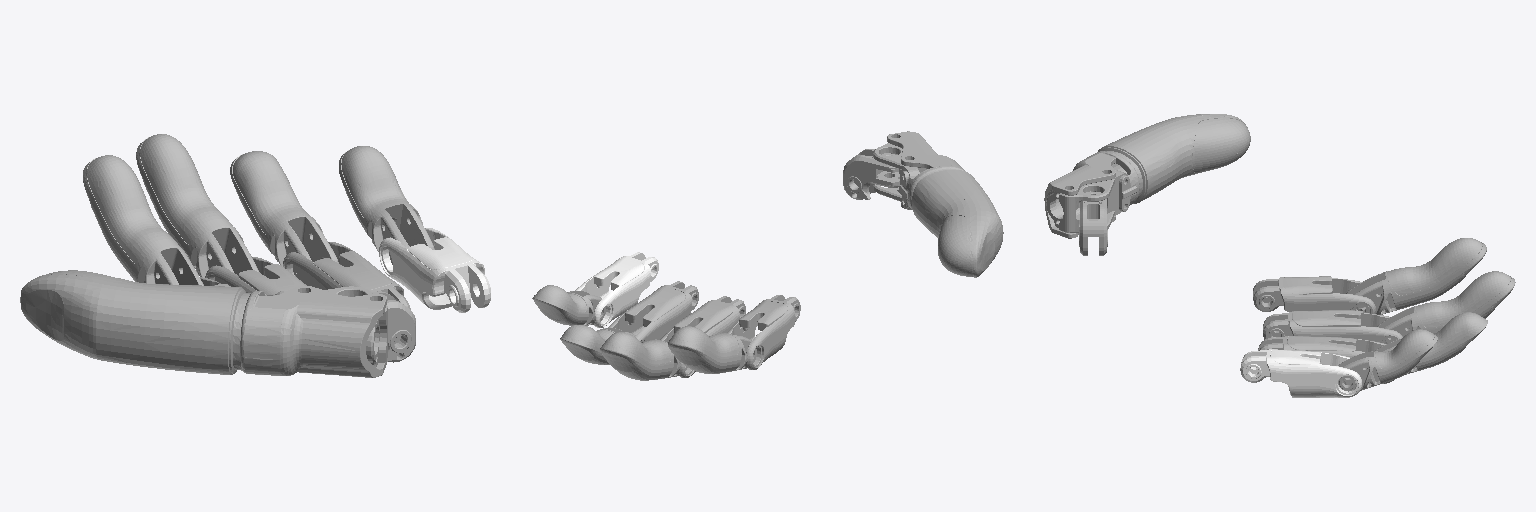
robot.urdf — DexforceW1_left_hand:
<?xml version='1.0' encoding='utf-8'?>
<robot name="DexforceW1_left_hand">
  <!-- Extracted from DexforceW1V021.urdf; root link: left_hand_base. -->
  <link name="left_hand_base">
    <inertial>
      <origin xyz="0.0017239 0.0051432 -0.031065" rpy="0 0 0" />
      <mass value="0.427" />
      <inertia ixx="0.0010405" ixy="-3.7268E-05" ixz="-3.9415E-05" iyy="0.0013244" iyz="-4.7638E-05" izz="0.00053219" />
    </inertial>
    <visual>
      <origin xyz="0 0 0" rpy="0 0 0" />
      <geometry>
        <mesh filename="Visual/left_hand/L_base_link.obj" />
      </geometry>
      <material name="">
        <color rgba="0.75294 0.75294 0.75294 1" />
      </material>
    </visual>
    <collision>
      <origin xyz="0 0 0" rpy="0 0 0" />
      <geometry>
        <mesh filename="Collision/left_hand/L_base_link.obj" />
      </geometry>
    </collision>
  </link>
  <link name="left_base_offset"> </link>
  <link name="left_thumb_prox">
    <inertial>
      <origin xyz="0.0017239 0.0051432 -0.031065" rpy="0 0 0" />
      <mass value="0.005" />
      <inertia ixx="0.0010405" ixy="-3.7268E-05" ixz="-3.9415E-05" iyy="0.0013244" iyz="-4.7638E-05" izz="0.00053219" />
    </inertial>
    <visual>
      <origin xyz="0 0 0" rpy="0 0 0" />
      <geometry>
        <mesh filename="Visual/left_hand/L_thumb_prox.obj" />
      </geometry>
      <material name="">
        <color rgba="0.75294 0.75294 0.75294 1" />
      </material>
    </visual>
    <collision>
      <origin xyz="0 0 0" rpy="0 0 0" />
      <geometry>
        <mesh filename="Collision/left_hand/L_thumb_prox.obj" />
      </geometry>
    </collision>
  </link>
  <link name="left_thumb_dist">
    <inertial>
      <origin xyz="0.0017239 0.0051432 -0.031065" rpy="0 0 0" />
      <mass value="0.04" />
      <inertia ixx="0.0010405" ixy="-3.7268E-05" ixz="-3.9415E-05" iyy="0.0013244" iyz="-4.7638E-05" izz="0.00053219" />
    </inertial>
    <visual>
      <origin xyz="0 0 0" rpy="0 0 0" />
      <geometry>
        <mesh filename="Visual/left_hand/L_thumb_dist.obj" />
      </geometry>
      <material name="">
        <color rgba="0.75294 0.75294 0.75294 1" />
      </material>
    </visual>
    <collision>
      <origin xyz="0 0 0" rpy="0 0 0" />
      <geometry>
        <mesh filename="Collision/left_hand/L_thumb_dist.obj" />
      </geometry>
    </collision>
  </link>
  <link name="left_index_prox">
    <inertial>
      <origin xyz="0.0017239 0.0051432 -0.031065" rpy="0 0 0" />
      <mass value="0.008" />
      <inertia ixx="0.0010405" ixy="-3.7268E-05" ixz="-3.9415E-05" iyy="0.0013244" iyz="-4.7638E-05" izz="0.00053219" />
    </inertial>
    <visual>
      <origin xyz="0 0 0" rpy="0 0 0" />
      <geometry>
        <mesh filename="Visual/left_hand/L_index_prox.obj" />
      </geometry>
      <material name="">
        <color rgba="0.75294 0.75294 0.75294 1" />
      </material>
    </visual>
    <collision>
      <origin xyz="0 0 0" rpy="0 0 0" />
      <geometry>
        <mesh filename="Collision/left_hand/L_index_prox.obj" />
      </geometry>
    </collision>
  </link>
  <link name="left_index_dist">
    <inertial>
      <origin xyz="0.0017239 0.0051432 -0.031065" rpy="0 0 0" />
      <mass value="0.011" />
      <inertia ixx="0.0010405" ixy="-3.7268E-05" ixz="-3.9415E-05" iyy="0.0013244" iyz="-4.7638E-05" izz="0.00053219" />
    </inertial>
    <visual>
      <origin xyz="0 0 0" rpy="0 0 0" />
      <geometry>
        <mesh filename="Visual/left_hand/L_index_dist.obj" />
      </geometry>
      <material name="">
        <color rgba="0.75294 0.75294 0.75294 1" />
      </material>
    </visual>
    <collision>
      <origin xyz="0 0 0" rpy="0 0 0" />
      <geometry>
        <mesh filename="Collision/left_hand/L_index_dist.obj" />
      </geometry>
    </collision>
  </link>
  <link name="left_middle_prox">
    <inertial>
      <origin xyz="0.0017239 0.0051432 -0.031065" rpy="0 0 0" />
      <mass value="0.011" />
      <inertia ixx="0.0010405" ixy="-3.7268E-05" ixz="-3.9415E-05" iyy="0.0013244" iyz="-4.7638E-05" izz="0.00053219" />
    </inertial>
    <visual>
      <origin xyz="0 0 0" rpy="0 0 0" />
      <geometry>
        <mesh filename="Visual/left_hand/L_middle_prox.obj" />
      </geometry>
      <material name="">
        <color rgba="0.75294 0.75294 0.75294 1" />
      </material>
    </visual>
    <collision>
      <origin xyz="0 0 0" rpy="0 0 0" />
      <geometry>
        <mesh filename="Collision/left_hand/L_middle_prox.obj" />
      </geometry>
    </collision>
  </link>
  <link name="left_middle_dist">
    <inertial>
      <origin xyz="0.0017239 0.0051432 -0.031065" rpy="0 0 0" />
      <mass value="0.011" />
      <inertia ixx="0.0010405" ixy="-3.7268E-05" ixz="-3.9415E-05" iyy="0.0013244" iyz="-4.7638E-05" izz="0.00053219" />
    </inertial>
    <visual>
      <origin xyz="0 0 0" rpy="0 0 0" />
      <geometry>
        <mesh filename="Visual/left_hand/L_middle_dist.obj" />
      </geometry>
      <material name="">
        <color rgba="0.75294 0.75294 0.75294 1" />
      </material>
    </visual>
    <collision>
      <origin xyz="0 0 0" rpy="0 0 0" />
      <geometry>
        <mesh filename="Collision/left_hand/L_middle_dist.obj" />
      </geometry>
    </collision>
  </link>
  <link name="left_ring_prox">
    <inertial>
      <origin xyz="0.0017239 0.0051432 -0.031065" rpy="0 0 0" />
      <mass value="0.011" />
      <inertia ixx="0.0010405" ixy="-3.7268E-05" ixz="-3.9415E-05" iyy="0.0013244" iyz="-4.7638E-05" izz="0.00053219" />
    </inertial>
    <visual>
      <origin xyz="0 0 0" rpy="0 0 0" />
      <geometry>
        <mesh filename="Visual/left_hand/L_ring_prox.obj" />
      </geometry>
      <material name="">
        <color rgba="0.75294 0.75294 0.75294 1" />
      </material>
    </visual>
    <collision>
      <origin xyz="0 0 0" rpy="0 0 0" />
      <geometry>
        <mesh filename="Collision/left_hand/L_ring_prox.obj" />
      </geometry>
    </collision>
  </link>
  <link name="left_ring_dist">
    <inertial>
      <origin xyz="0.0017239 0.0051432 -0.031065" rpy="0 0 0" />
      <mass value="0.008" />
      <inertia ixx="0.0010405" ixy="-3.7268E-05" ixz="-3.9415E-05" iyy="0.0013244" iyz="-4.7638E-05" izz="0.00053219" />
    </inertial>
    <visual>
      <origin xyz="0 0 0" rpy="0 0 0" />
      <geometry>
        <mesh filename="Visual/left_hand/L_ring_dist.obj" />
      </geometry>
      <material name="">
        <color rgba="0.75294 0.75294 0.75294 1" />
      </material>
    </visual>
    <collision>
      <origin xyz="0 0 0" rpy="0 0 0" />
      <geometry>
        <mesh filename="Collision/left_hand/L_ring_dist.obj" />
      </geometry>
    </collision>
  </link>
  <link name="left_pinky_prox">
    <inertial>
      <origin xyz="0 0 0" rpy="0 0 0" />
      <mass value="0.008" />
      <inertia ixx="3.3526E-07" ixy="2.8461E-11" ixz="-2.3358E-12" iyy="1.0129E-07" iyz="2.1346E-08" izz="3.7096E-07" />
    </inertial>
    <visual>
      <origin xyz="0 0 0" rpy="0 0 0" />
      <geometry>
        <mesh filename="Visual/left_hand/L_little_prox.obj" />
      </geometry>
      <material name="">
        <color rgba="1 1 1 1" />
      </material>
    </visual>
    <collision>
      <origin xyz="0 0 0" rpy="0 0 0" />
      <geometry>
        <mesh filename="Collision/left_hand/L_little_prox.obj" />
      </geometry>
    </collision>
  </link>
  <link name="left_pinky_dist">
    <inertial>
      <origin xyz="0.0017239 0.0051432 -0.031065" rpy="0 0 0" />
      <mass value="0.008" />
      <inertia ixx="0.0010405" ixy="-3.7268E-05" ixz="-3.9415E-05" iyy="0.0013244" iyz="-4.7638E-05" izz="0.00053219" />
    </inertial>
    <visual>
      <origin xyz="0 0 0" rpy="0 0 0" />
      <geometry>
        <mesh filename="Visual/left_hand/L_little_dist.obj" />
      </geometry>
      <material name="">
        <color rgba="0.75294 0.75294 0.75294 1" />
      </material>
    </visual>
    <collision>
      <origin xyz="0 0 0" rpy="0 0 0" />
      <geometry>
        <mesh filename="Collision/left_hand/L_little_dist.obj" />
      </geometry>
    </collision>
  </link>
  <joint name="LEFT_BASE_OFFSET" type="fixed">
    <origin xyz="0 0.0298242 0" rpy="-0.0698132 0 0" />
    <parent link="left_hand_base" />
    <child link="left_base_offset" />
  </joint>
  <joint name="LEFT_HAND_THUMB1" type="revolute">
    <origin xyz="0 0 0.013647" rpy="0.87266 -0.49642 0" />
    <parent link="left_thumb_prox" />
    <child link="left_thumb_dist" />
    <axis xyz="-1 0 0" />
    <limit lower="0" upper="0.8727" effort="0" velocity="0" />
    <dynamics damping="0" friction="0" />
  </joint>
  <joint name="LEFT_HAND_THUMB2" type="revolute">
    <origin xyz="-0.0245 0.022632 0.023263" rpy="0.14578 -1.0699 -0.12808" />
    <parent link="left_base_offset" />
    <child link="left_thumb_prox" />
    <axis xyz="0 1 0" />
    <limit lower="0" upper="1.5708" effort="0" velocity="0" />
    <dynamics damping="0" friction="0" />
  </joint>
  <joint name="LEFT_HAND_INDEX" type="revolute">
    <origin xyz="-0.029003 0.088291 0.0022155" rpy="-0.029415 0.05236 0.034907" />
    <parent link="left_base_offset" />
    <child link="left_index_prox" />
    <axis xyz="1 0 0" />
    <limit lower="0" upper="1.309" effort="0" velocity="0" />
    <dynamics damping="0" friction="0" />
  </joint>
  <joint name="LEFT_INDEX_PIP" type="revolute">
    <origin xyz="0 0.035 0" rpy="0.19353 0 0" />
    <parent link="left_index_prox" />
    <child link="left_index_dist" />
    <axis xyz="1 0 0" />
    <limit lower="0" upper="2.0944" effort="0" velocity="0" />
    <mimic joint="LEFT_HAND_INDEX" multiplier="1.2" offset="0.19373154697137057" />
  </joint>
  <joint name="LEFT_HAND_MIDDLE" type="revolute">
    <origin xyz="-0.008 0.092284 -0.0017707" rpy="0 0 0" />
    <parent link="left_base_offset" />
    <child link="left_middle_prox" />
    <axis xyz="1 0 0" />
    <limit lower="0" upper="1.309" effort="0" velocity="0" />
    <dynamics damping="0" friction="0" />
  </joint>
  <joint name="LEFT_MIDDLE_PIP" type="revolute">
    <origin xyz="0 0.042 0" rpy="0.18357 0 0" />
    <parent link="left_middle_prox" />
    <child link="left_middle_dist" />
    <axis xyz="1 0 0" />
    <limit lower="0" upper="2.0944" effort="0" velocity="0" />
    <mimic joint="LEFT_HAND_MIDDLE" multiplier="1.2" offset="0.1832595714594046" />
  </joint>
  <joint name="LEFT_HAND_RING" type="revolute">
    <origin xyz="0.013103 0.090291 -0.0017845" rpy="-0.0092374 -0.05236 -0.034907" />
    <parent link="left_base_offset" />
    <child link="left_ring_prox" />
    <axis xyz="1 0 0" />
    <limit lower="0" upper="1.309" effort="0" velocity="0" />
    <dynamics damping="0" friction="0" />
  </joint>
  <joint name="LEFT_RING_PIP" type="revolute">
    <origin xyz="0 0.042 0" rpy="0.16583 0 0" />
    <parent link="left_ring_prox" />
    <child link="left_ring_dist" />
    <axis xyz="1 0 0" />
    <limit lower="0" upper="2.0944" effort="0" velocity="0" />
    <mimic joint="LEFT_HAND_RING" multiplier="1.2" offset="0.16580627893946132" />
  </joint>
  <joint name="LEFT_HAND_PINKY" type="revolute">
    <origin xyz="0.033731 0.083777 0.0022155" rpy="-0.024909 -0.05236 -0.069813" />
    <parent link="left_base_offset" />
    <child link="left_pinky_prox" />
    <axis xyz="1 0 0" />
    <limit lower="0" upper="1.309" effort="0" velocity="0" />
    <dynamics damping="0" friction="0" />
  </joint>
  <joint name="LEFT_PINKY_PIP" type="revolute">
    <origin xyz="0 0.035 0" rpy="0.20294 0 0" />
    <parent link="left_pinky_prox" />
    <child link="left_pinky_dist" />
    <axis xyz="1 0 0" />
    <limit lower="0" upper="2.0944" effort="0" velocity="0" />
    <mimic joint="LEFT_HAND_PINKY" multiplier="1.2" offset="0.20245819323134223" />
  </joint>
</robot>

--- Render facts (derived) ---
3 views of the same robot in one strip: view 1: azimuth 30°, elevation 25°; view 2: azimuth 150°, elevation 25°; view 3: azimuth 270°, elevation 25° (orthographic).
Robot: DexforceW1_left_hand — 12 links, 11 joints (10 revolute, 1 fixed); root link left_hand_base; default pose: every joint at zero.
Links seen in each view (by area): view 1: left_thumb_dist, left_middle_dist, left_index_dist, left_ring_dist, left_pinky_prox, left_pinky_dist, left_ring_prox, left_middle_prox, left_thumb_prox; view 2: left_thumb_dist, left_pinky_prox, left_ring_prox, left_index_dist, left_index_prox, left_middle_dist, left_pinky_dist, left_thumb_prox, left_middle_prox, left_ring_dist; view 3: left_thumb_dist, left_index_dist, left_pinky_prox, left_middle_dist, left_index_prox, left_middle_prox, left_pinky_dist, left_ring_dist, left_ring_prox, left_thumb_prox.
Link boxes in pixels (box(x1,y1,x2,y2)): left_thumb_dist: box(20, 270, 387, 377); left_middle_dist: box(136, 134, 259, 281); left_index_dist: box(83, 155, 203, 285); left_ring_dist: box(230, 151, 338, 277); left_pinky_prox: box(379, 228, 490, 312); left_pinky_dist: box(339, 146, 434, 264); left_ring_prox: box(283, 242, 410, 309); left_middle_prox: box(205, 257, 306, 295); left_thumb_prox: box(372, 291, 415, 362); left_thumb_dist: box(873, 131, 1003, 277); left_pinky_prox: box(575, 252, 658, 327); left_ring_prox: box(608, 281, 698, 342); left_index_dist: box(668, 326, 756, 373); left_index_prox: box(727, 295, 800, 369); left_middle_dist: box(600, 332, 687, 380); left_pinky_dist: box(532, 285, 605, 325); left_thumb_prox: box(843, 149, 899, 199); left_middle_prox: box(660, 296, 745, 377); left_ring_dist: box(560, 325, 635, 364); left_thumb_dist: box(1044, 114, 1250, 238); left_index_dist: box(1346, 238, 1486, 314); left_pinky_prox: box(1240, 349, 1361, 397); left_middle_dist: box(1377, 271, 1515, 343); left_index_prox: box(1253, 276, 1375, 313); left_middle_prox: box(1263, 310, 1402, 342); left_pinky_dist: box(1338, 329, 1437, 391); left_ring_dist: box(1375, 312, 1487, 374); left_ring_prox: box(1258, 336, 1393, 383); left_thumb_prox: box(1079, 191, 1107, 255).
Size in the robot's own frame: 0.1496 by 0.1742 by 0.0586 metres.
10 mesh visuals loaded from 11 distinct referenced files (10 OBJ); not drawn: 1 (reference not matched to a file when rendering).
